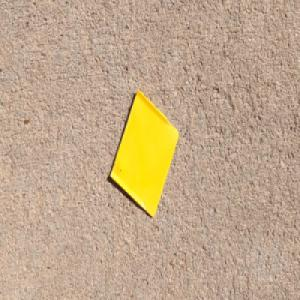PlasticPart: (108, 86, 179, 218)
